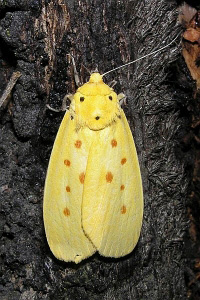Agape chloropyga: (35, 26, 180, 262)
moth: (37, 28, 182, 264)
